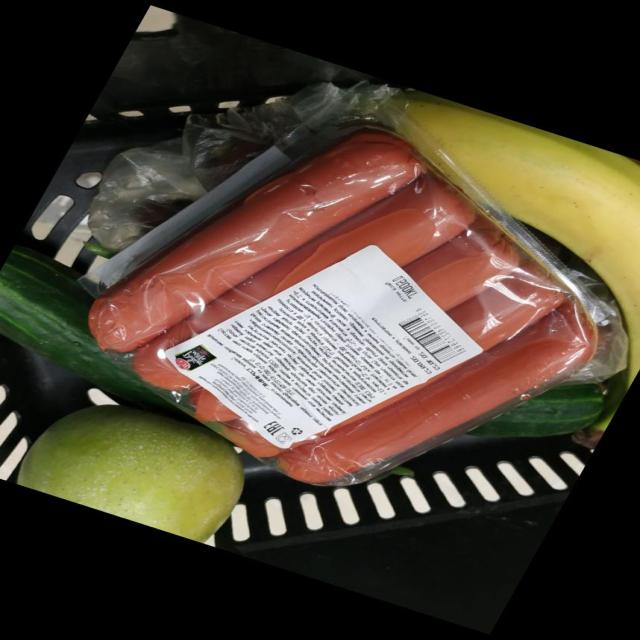Apple: (17, 405, 243, 543)
Banana: (406, 92, 640, 431)
Cucumber: (0, 246, 178, 411), (468, 383, 604, 438)
Sausages: (89, 127, 607, 485)
